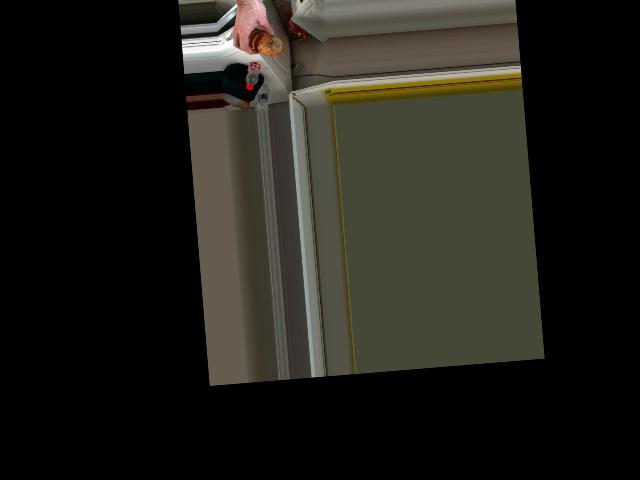sweet_potato: (246, 26, 279, 59)
